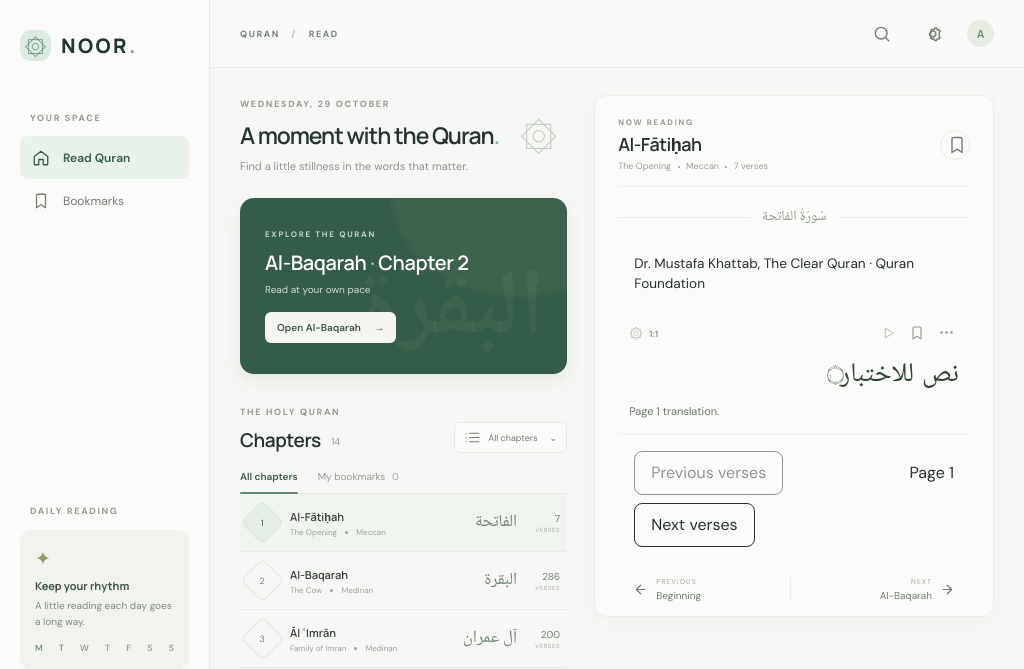
Quran request recovery and pagination › loads the next verse page and opens a saved verse on its original page
Check: the heading "Al-Fātiḥah" is shown, box [618,132,702,156]
Check: the button named "Bookmark verse 1" is shown, box [903,320,930,346]
Click the button "NEXT Al-Baqarah": (919, 590) [874,576,964,603]
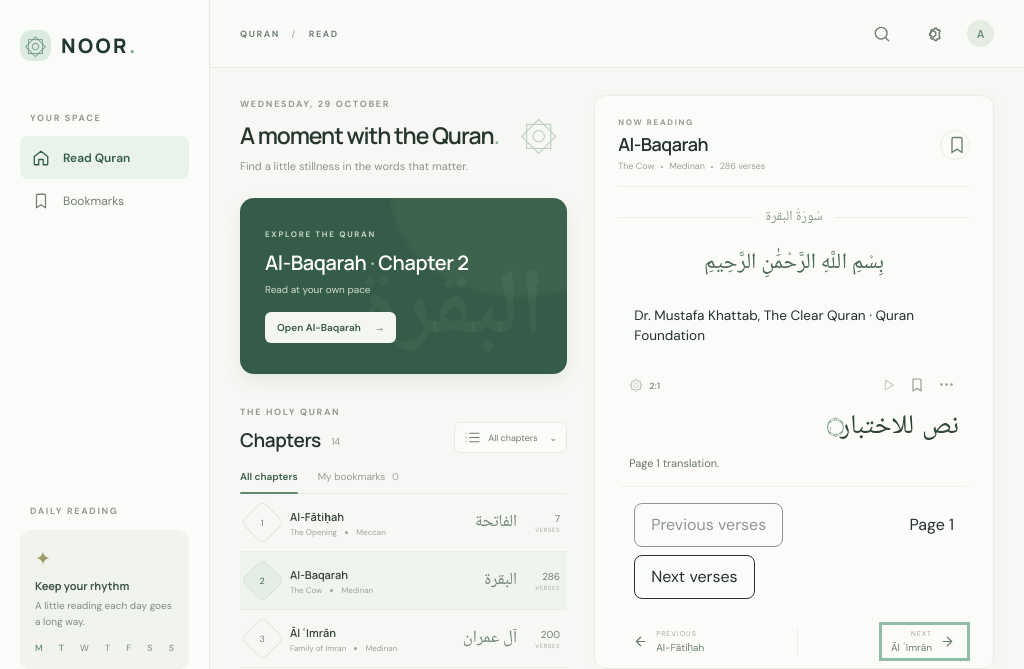
Check: the text "Page 1 translation." is shown, box [629,456,719,470]
Check: the heading "Al-Baqarah" is shown, box [618,132,708,156]
Click the button "Next verses": (694, 577) [634,555,754,599]
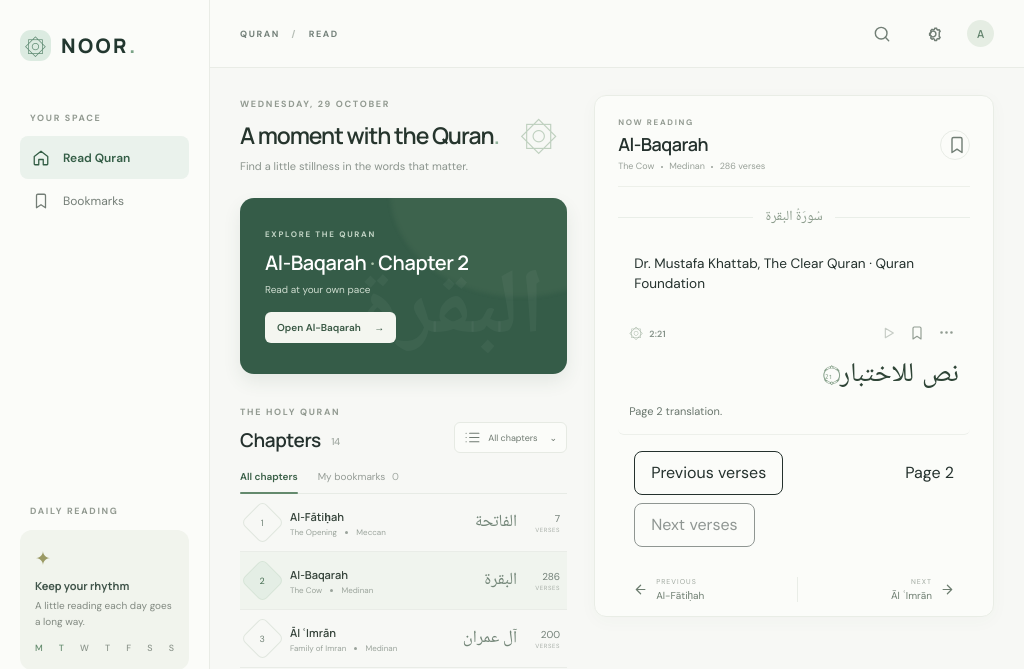
Check: the text "Page 2 translation." is shown, box [629,404,722,418]
Check: the text "Page 1 translation." is gone
Check: the button "Next verses" is disabled, box [634,503,754,547]
Click the button named "Bookmark verse 21": (916, 333) [903,320,930,346]
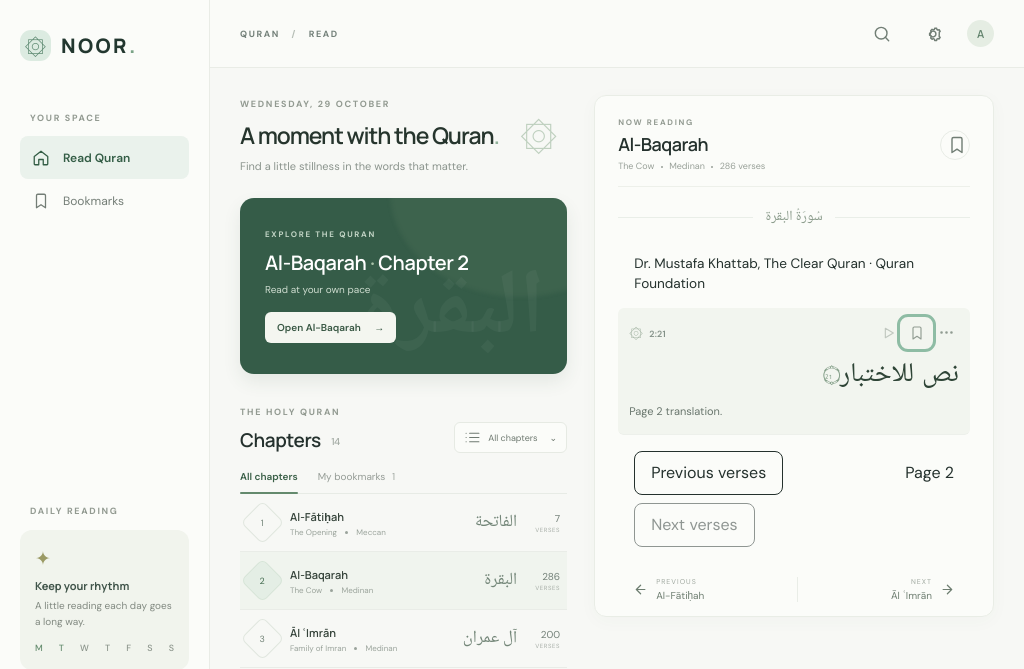
Click the button "Previous verses": (709, 473) [634,451,783,495]
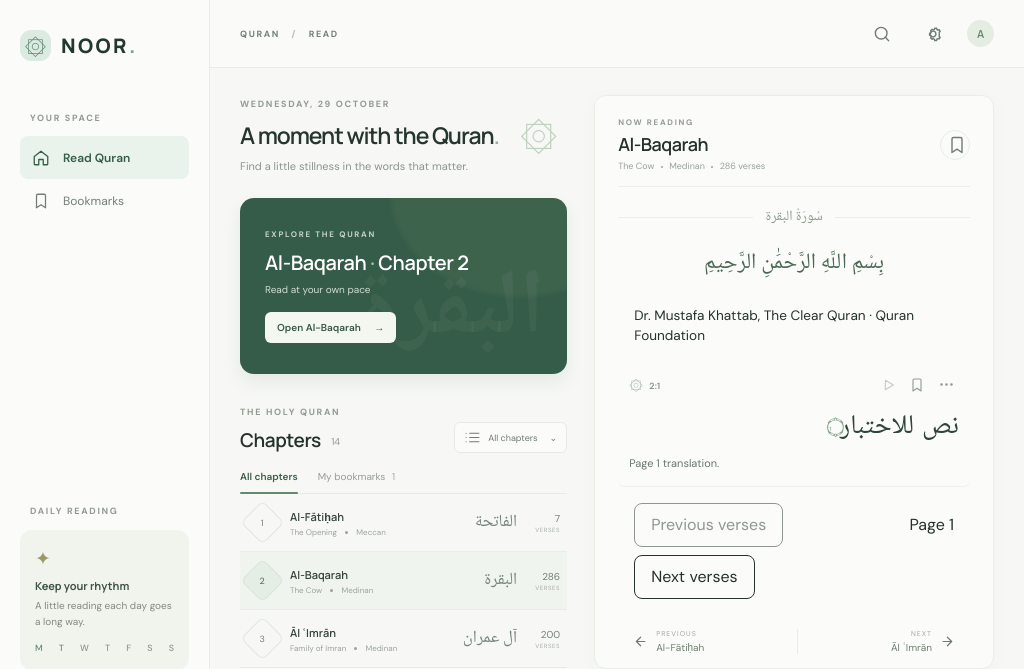
Check: the text "Page 1 translation." is shown, box [629,456,719,470]
Click the button "My bookmarks 1": (356, 482) [318,470,395,493]
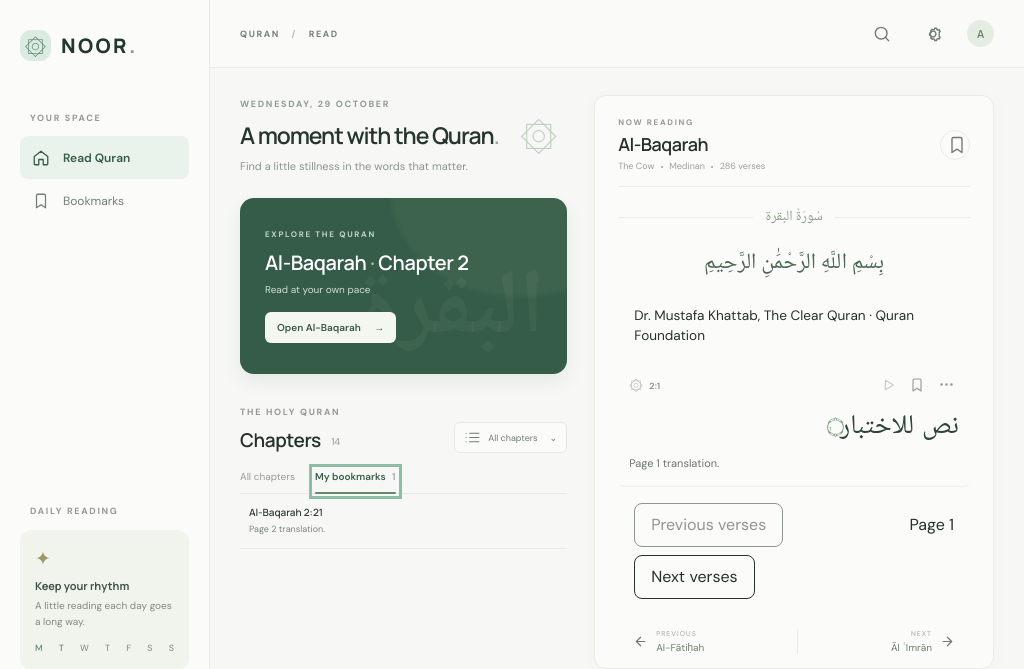
Click the button "Al-Baqarah 2:21 Page 2 translation.": (275, 512) [240,494,567,548]
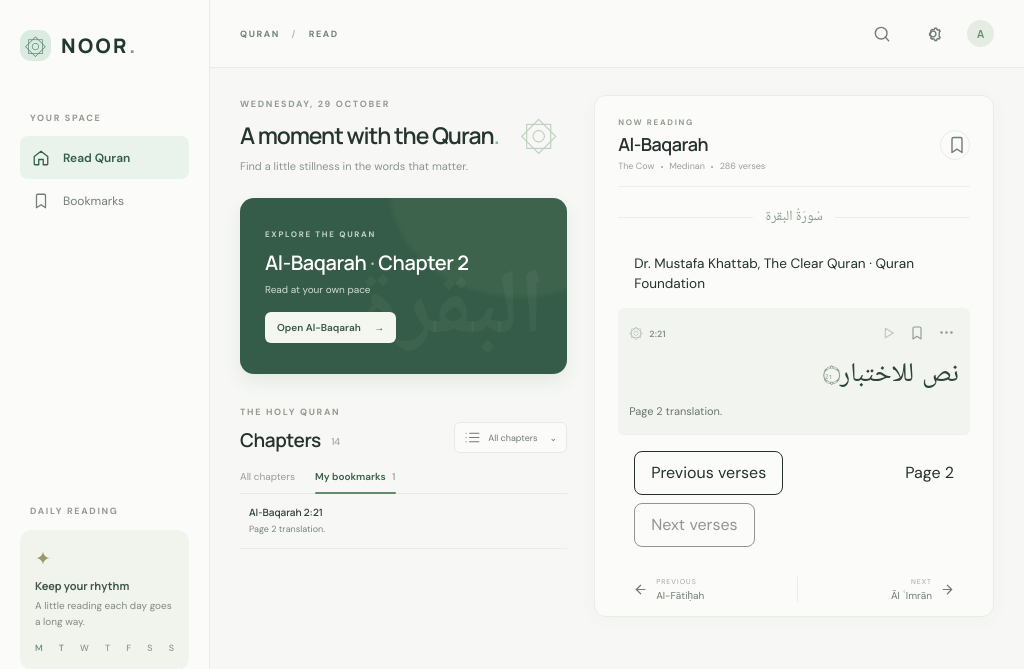
Check: the button named "Bookmark verse 21" is shown, box [903,320,930,346]
